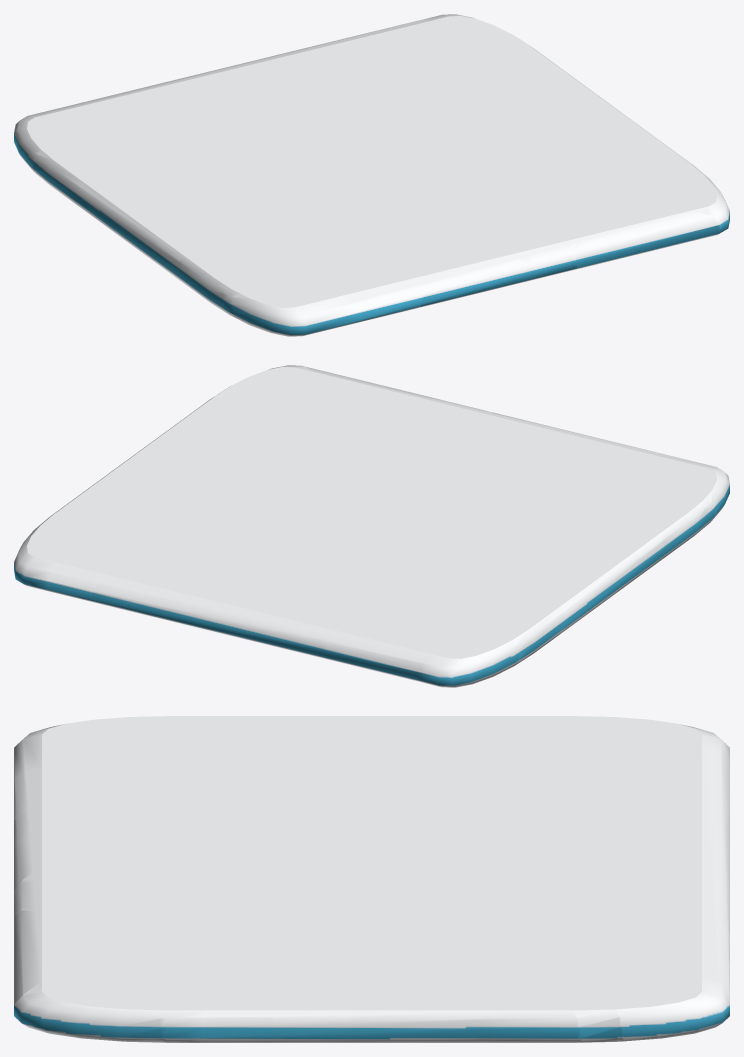
Rendered from Step_TileChunks.fbx.
3 views of the same model, one above another, from view 1: azimuth 30°, elevation 25°; view 2: azimuth 150°, elevation 25°; view 3: azimuth 270°, elevation 25° (orthographic). The views are drawn at different scales.
Parts seen in each view (by area): view 1: Step_Tile_Chunk_09_72, Step_Tile_Chunk_02_52, Step_Tile_Chunk_03_42, Step_Tile_Chunk_09_47, Step_Tile_Chunk_08_01, Step_Tile_Chunk_02_43, Step_Tile_Chunk_07_49, Step_Tile_Chunk_07_26, Step_Tile_Chunk_05_27, Step_Tile_Chunk_02_11, Step_Tile_Chunk_04_53, Step_Tile_Chunk_04_09 (+68 smaller); view 2: Step_Tile_Chunk_08_01, Step_Tile_Chunk_07_17, Step_Tile_Chunk_07_19, Step_Tile_Chunk_04_22, Step_Tile_Chunk_02_43, Step_Tile_Chunk_07_49, Step_Tile_Chunk_07_26, Step_Tile_Chunk_05_27, Step_Tile_Chunk_02_11, Step_Tile_Chunk_10_48, Step_Tile_Chunk_02_34, Step_Tile_Chunk_04_09 (+68 smaller); view 3: Step_Tile_Chunk_10_23, Step_Tile_Chunk_06_46, Step_Tile_Chunk_08_01, Step_Tile_Chunk_09_44, Step_Tile_Chunk_04_70, Step_Tile_Chunk_07_17, Step_Tile_Chunk_09_72, Step_Tile_Chunk_07_26, Step_Tile_Chunk_05_27, Step_Tile_Chunk_01_75, Step_Tile_Chunk_04_09, Step_Tile_Chunk_06_38 (+68 smaller).
Part boxes in pixels (x1,y1,x2,y2): Step_Tile_Chunk_09_72: [575, 204, 718, 268]; Step_Tile_Chunk_02_52: [232, 282, 359, 336]; Step_Tile_Chunk_03_42: [347, 251, 423, 322]; Step_Tile_Chunk_09_47: [420, 245, 536, 298]; Step_Tile_Chunk_08_01: [48, 88, 172, 129]; Step_Tile_Chunk_02_43: [107, 199, 194, 262]; Step_Tile_Chunk_07_49: [77, 160, 167, 227]; Step_Tile_Chunk_07_26: [304, 111, 401, 162]; Step_Tile_Chunk_05_27: [396, 105, 482, 156]; Step_Tile_Chunk_02_11: [176, 253, 273, 311]; Step_Tile_Chunk_04_53: [490, 214, 575, 279]; Step_Tile_Chunk_04_09: [140, 163, 236, 204]; Step_Tile_Chunk_08_01: [324, 609, 440, 681]; Step_Tile_Chunk_07_17: [211, 592, 347, 659]; Step_Tile_Chunk_07_19: [418, 635, 519, 687]; Step_Tile_Chunk_04_22: [47, 536, 136, 602]; Step_Tile_Chunk_02_43: [552, 546, 641, 609]; Step_Tile_Chunk_07_49: [481, 579, 595, 632]; Step_Tile_Chunk_07_26: [295, 504, 369, 560]; Step_Tile_Chunk_05_27: [231, 486, 346, 523]; Step_Tile_Chunk_02_11: [624, 498, 707, 558]; Step_Tile_Chunk_10_48: [484, 606, 565, 663]; Step_Tile_Chunk_02_34: [139, 576, 215, 631]; Step_Tile_Chunk_04_09: [463, 546, 563, 585]; Step_Tile_Chunk_10_23: [14, 978, 170, 1042]; Step_Tile_Chunk_06_46: [349, 978, 481, 1042]; Step_Tile_Chunk_08_01: [614, 745, 729, 817]; Step_Tile_Chunk_09_44: [616, 977, 729, 1041]; Step_Tile_Chunk_04_70: [259, 972, 360, 1042]; Step_Tile_Chunk_07_17: [638, 806, 729, 887]; Step_Tile_Chunk_09_72: [14, 910, 109, 1003]; Step_Tile_Chunk_07_26: [361, 849, 539, 894]; Step_Tile_Chunk_05_27: [353, 880, 488, 938]; Step_Tile_Chunk_01_75: [478, 990, 581, 1042]; Step_Tile_Chunk_04_09: [372, 731, 491, 787]; Step_Tile_Chunk_06_38: [438, 867, 567, 921].
Size of the model in its own units: 4 by 0.2 by 4.
